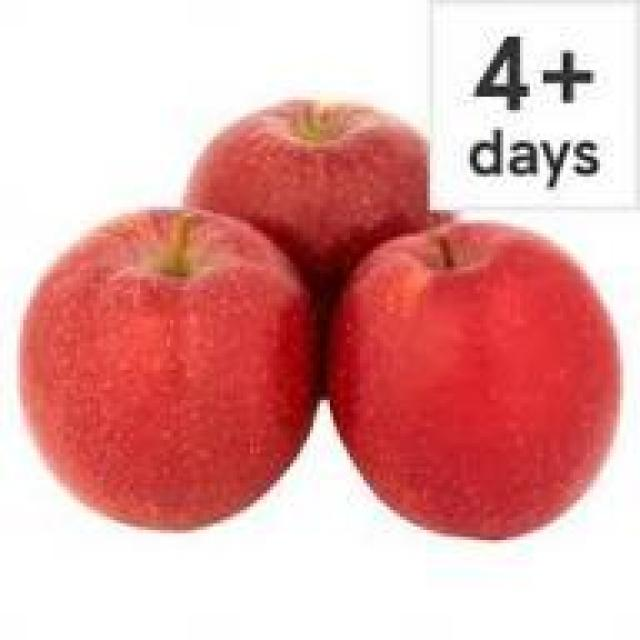apple: (327, 210, 633, 540), (27, 223, 320, 530), (183, 73, 450, 287)
